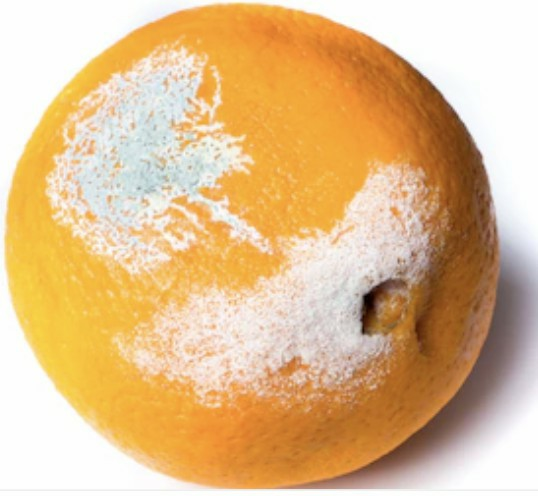rotten_orange: (9, 6, 501, 485)
